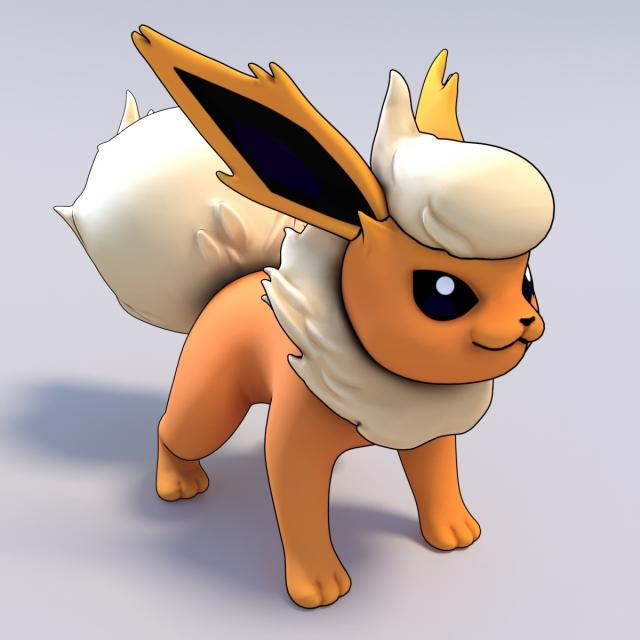Flareon: (37, 19, 562, 619)
